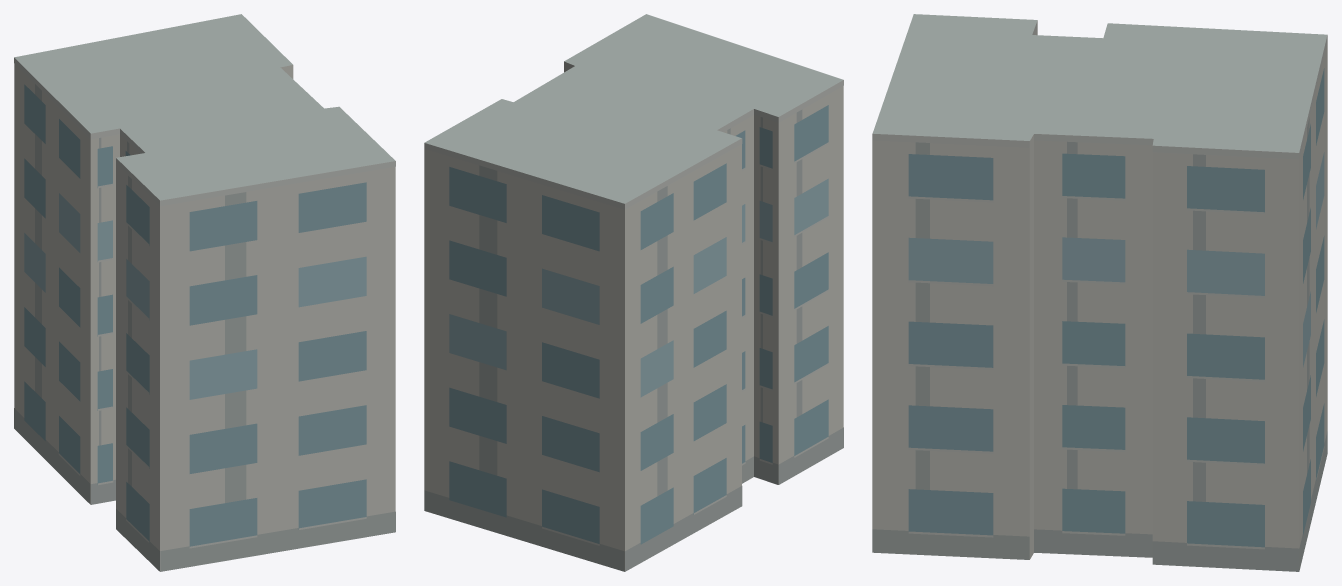
File: survey-upis-32572392.glb
3 views of the same model, side by side, from view 1: azimuth 30°, elevation 25°; view 2: azimuth 150°, elevation 25°; view 3: azimuth 270°, elevation 25° (orthographic). The views are drawn at different scales.
Parts seen in each view (by area): view 1: survey-upis-32572392.tmp; view 2: survey-upis-32572392.tmp; view 3: survey-upis-32572392.tmp.
Part boxes in pixels (x1,y1,x2,y2): survey-upis-32572392.tmp: [14, 14, 395, 571]; survey-upis-32572392.tmp: [424, 14, 843, 571]; survey-upis-32572392.tmp: [872, 14, 1327, 571].
Size of the model in its own units: 11.04 by 15.5 by 15.27.
